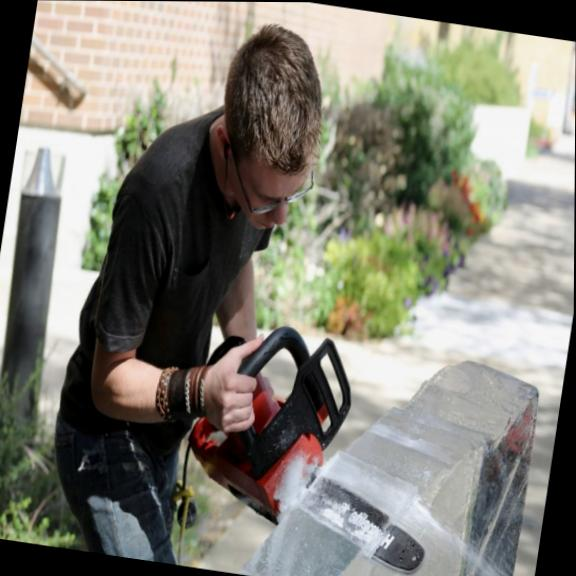no_safety_vest: (67, 97, 299, 415)
